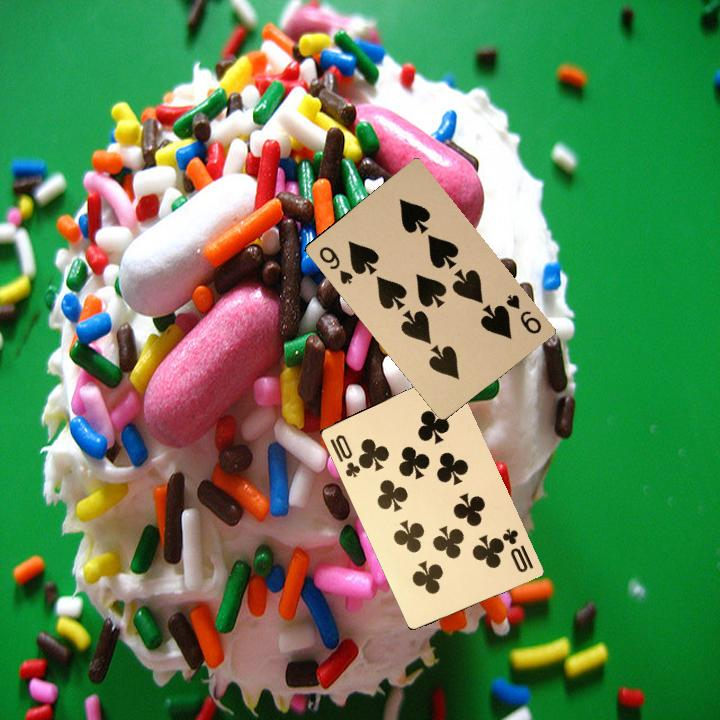10c: (326, 430, 367, 480), (497, 525, 536, 575)
9s: (502, 290, 544, 337), (315, 242, 356, 287)
